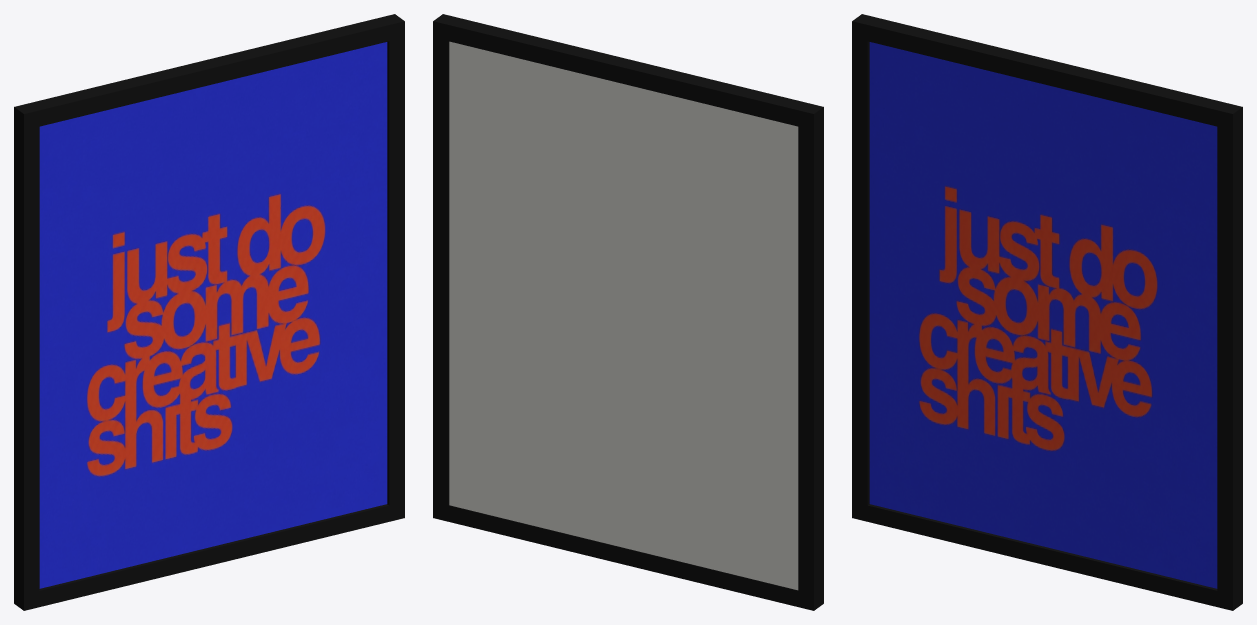
File: framed-poster-just-do-some-creative-shits-bold-typographic-art-print.glb
3 views of the same model, side by side, from view 1: azimuth 30°, elevation 25°; view 2: azimuth 150°, elevation 25°; view 3: azimuth 330°, elevation 25° (orthographic).
Parts seen in each view (by area): view 1: Just Do Some Creative Shits – Typo-Art-Poster; view 2: Just Do Some Creative Shits – Typo-Art-Poster; view 3: Just Do Some Creative Shits – Typo-Art-Poster.
Boxes of the visible parts, box(x1,y1,x2,y2) form: Just Do Some Creative Shits – Typo-Art-Poster: box(14, 14, 404, 610); Just Do Some Creative Shits – Typo-Art-Poster: box(433, 14, 823, 610); Just Do Some Creative Shits – Typo-Art-Poster: box(852, 14, 1242, 610).
Bounding box in the file's own units: 0.489 × 0.6096 × 0.022.
1 material, 1 textured.
